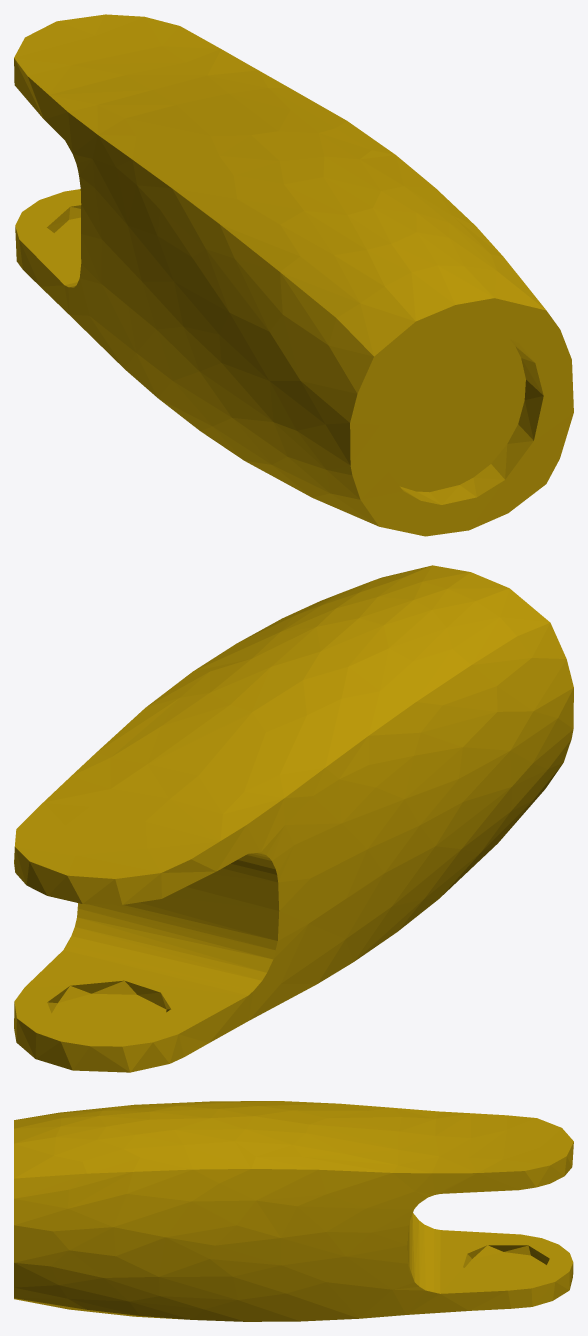
The model's file is KukaKR6R900Link4.dae.
3 renders of one model, top to bottom at view 1: azimuth 30°, elevation 25°; view 2: azimuth 150°, elevation 25°; view 3: azimuth 270°, elevation 25°, orthographic. The views are drawn at different scales.
Parts seen in each view (by area): view 1: KUKAKR6R900Link4; view 2: KUKAKR6R900Link4; view 3: KUKAKR6R900Link4.
Boxes of the visible parts, x1,y1,x2,y2 form: KUKAKR6R900Link4: (14,14,573,536); KUKAKR6R900Link4: (14,565,573,1072); KUKAKR6R900Link4: (14,1101,573,1321).
Size of the model in its own units: 0.1216 by 0.3476 by 0.1279.
